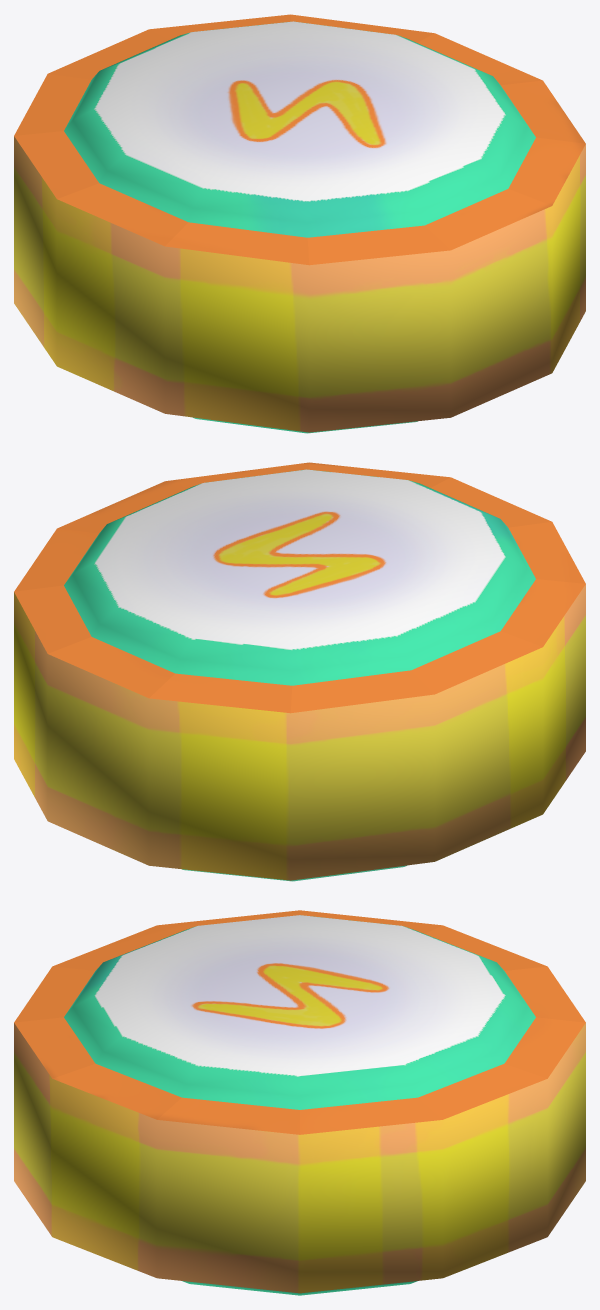
The model's file is BatteryFlat_mod.fbx.
3 views of the same model, one above another, from view 1: azimuth 30°, elevation 25°; view 2: azimuth 150°, elevation 25°; view 3: azimuth 270°, elevation 25° (orthographic). The views are drawn at different scales.
Visible parts, largest first — view 1: Battery_flat; view 2: Battery_flat; view 3: Battery_flat.
Part boxes in pixels (x1,y1,x2,y2): Battery_flat: [14, 14, 585, 433]; Battery_flat: [14, 462, 585, 881]; Battery_flat: [14, 910, 585, 1295].
Size of the model in its own units: 29.97 by 13.27 by 32.25.
